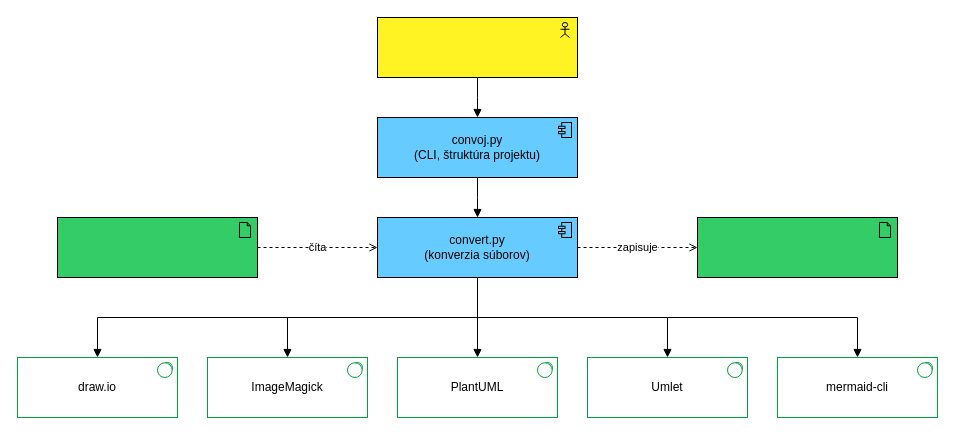
Some shapes in this 955 by 435 pixel diagram are drawn without their labels. The centre of each missing label's shape, as x and y in pixels:
"Autor dokumentácie" belongs at [477,47].
"build/img_png (PNG výstup)" belongs at [797,247].
"docs/img src_doc/img (.drawio .svg .puml .uxf .mmd)" belongs at [157,247].
